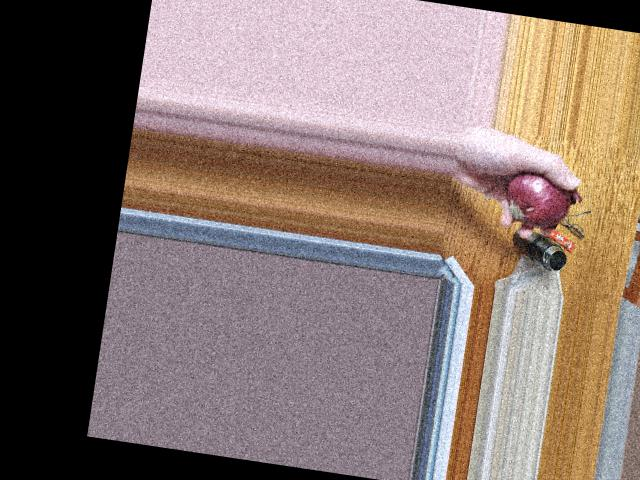onion: (506, 162, 568, 223)
